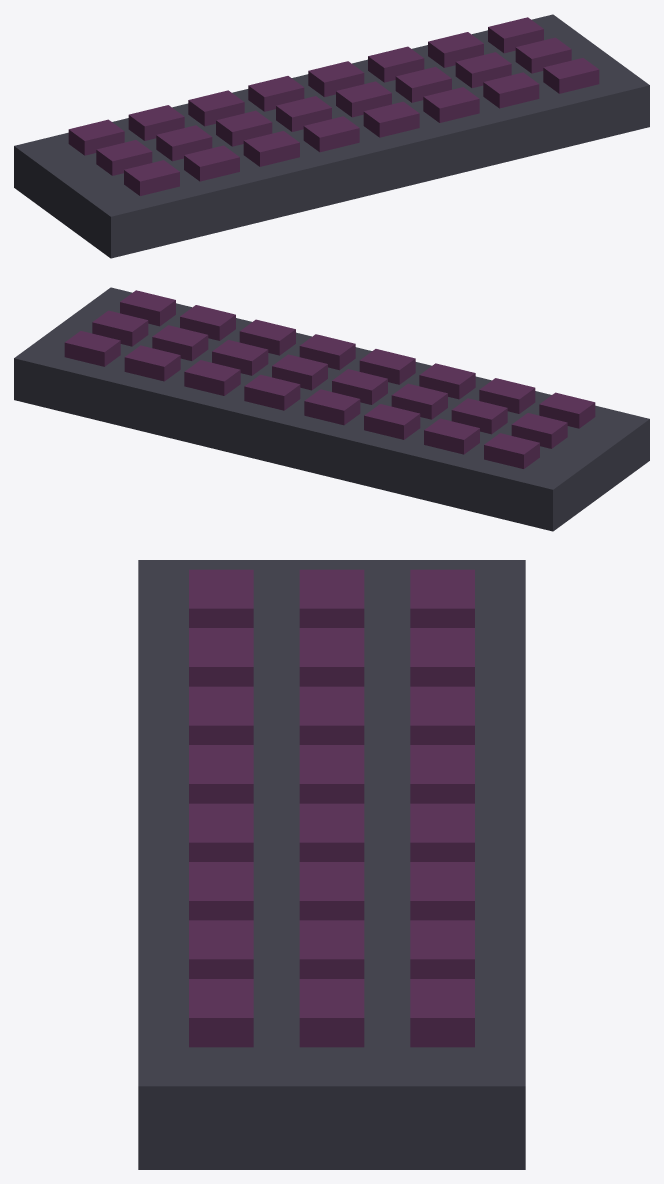
The model's file is keyboard-foy2zvpjaj.obj.
The picture shows the model from 3 angles, top to bottom: view 1: azimuth 30°, elevation 25°; view 2: azimuth 150°, elevation 25°; view 3: azimuth 270°, elevation 25°; orthographic projection. The views are drawn at different scales.
Parts seen in each view (by area): view 1: rounded-keyboard-base, key-2-3, key-2-4, key-2-5, key-2-6, key-2-2, key-2-7, key-2-0, key-2-1, key-1-6, key-1-7, key-0-0 (+13 smaller); view 2: rounded-keyboard-base, key-0-3, key-0-4, key-0-5, key-0-6, key-0-2, key-0-7, key-0-0, key-0-1, key-1-6, key-1-7, key-1-5 (+13 smaller); view 3: rounded-keyboard-base, key-1-7, key-0-7, key-2-7, key-1-1, key-1-3, key-1-6, key-1-0, key-1-2, key-1-4, key-1-5, key-0-0 (+13 smaller).
Boxes of the visible parts, x1,y1,x2,y2 form: rounded-keyboard-base: [14, 14, 649, 258]; key-2-3: [303, 116, 359, 152]; key-2-4: [363, 101, 419, 137]; key-2-5: [423, 87, 479, 122]; key-2-6: [483, 72, 539, 108]; key-2-2: [243, 131, 299, 166]; key-2-7: [543, 58, 599, 93]; key-2-0: [124, 160, 179, 195]; key-2-1: [184, 145, 239, 181]; key-1-6: [455, 52, 511, 87]; key-1-7: [515, 37, 571, 73]; key-0-0: [68, 119, 124, 155]; rounded-keyboard-base: [14, 287, 649, 531]; key-0-3: [304, 389, 360, 425]; key-0-4: [244, 374, 300, 410]; key-0-5: [184, 360, 240, 395]; key-0-6: [124, 345, 180, 381]; key-0-2: [364, 404, 420, 439]; key-0-7: [64, 331, 120, 366]; key-0-0: [484, 433, 539, 468]; key-0-1: [424, 418, 479, 454]; key-1-6: [152, 325, 208, 360]; key-1-7: [92, 310, 148, 346]; key-1-5: [212, 339, 268, 375]; rounded-keyboard-base: [138, 560, 525, 1169]; key-1-7: [299, 979, 364, 1047]; key-0-7: [410, 979, 474, 1047]; key-2-7: [189, 979, 253, 1047]; key-1-1: [299, 628, 364, 686]; key-1-3: [299, 745, 364, 803]; key-1-6: [299, 920, 364, 978]; key-1-0: [299, 569, 364, 627]; key-1-2: [299, 686, 364, 744]; key-1-4: [299, 803, 364, 861]; key-1-5: [299, 862, 364, 920]; key-0-0: [410, 569, 474, 627].
Size of the model in its own units: 1.35 by 0.1375 by 0.42.
